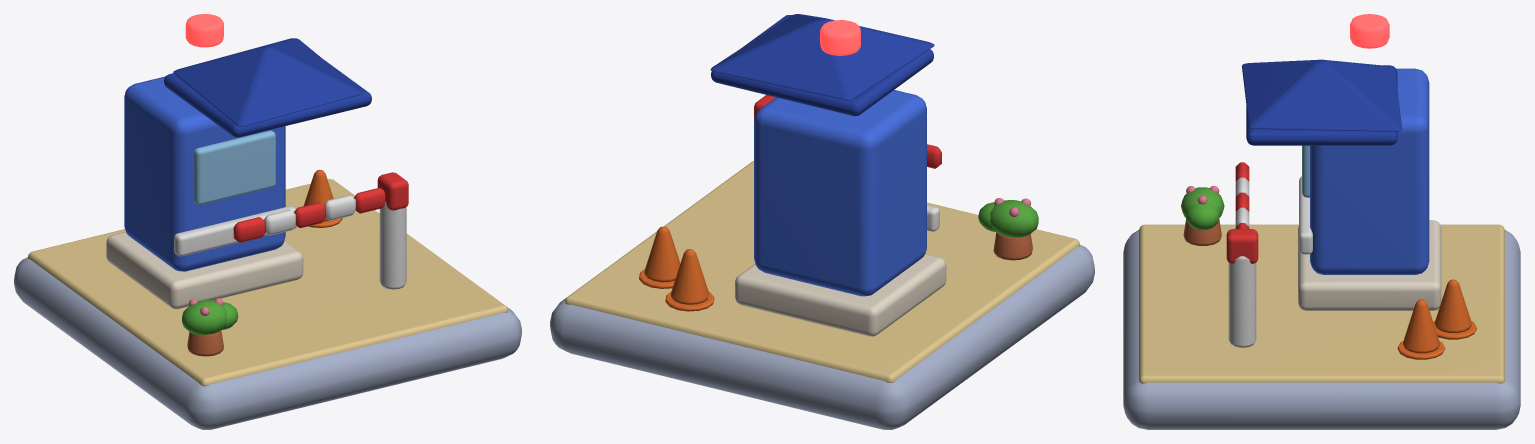
File: c_audit.glb
3 renders of one model, left to right at view 1: azimuth 30°, elevation 25°; view 2: azimuth 150°, elevation 25°; view 3: azimuth 270°, elevation 25°, orthographic. The views are drawn at different scales.
Visible parts, largest first — view 1: Cube; view 2: Cube; view 3: Cube.
Boxes of the visible parts, bbox=[...] form: Cube: bbox=[14, 14, 521, 429]; Cube: bbox=[550, 14, 1094, 429]; Cube: bbox=[1123, 14, 1520, 429].
Size of the model in its own units: 1 by 0.87 by 1.
